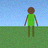person: (24, 7, 37, 36)
